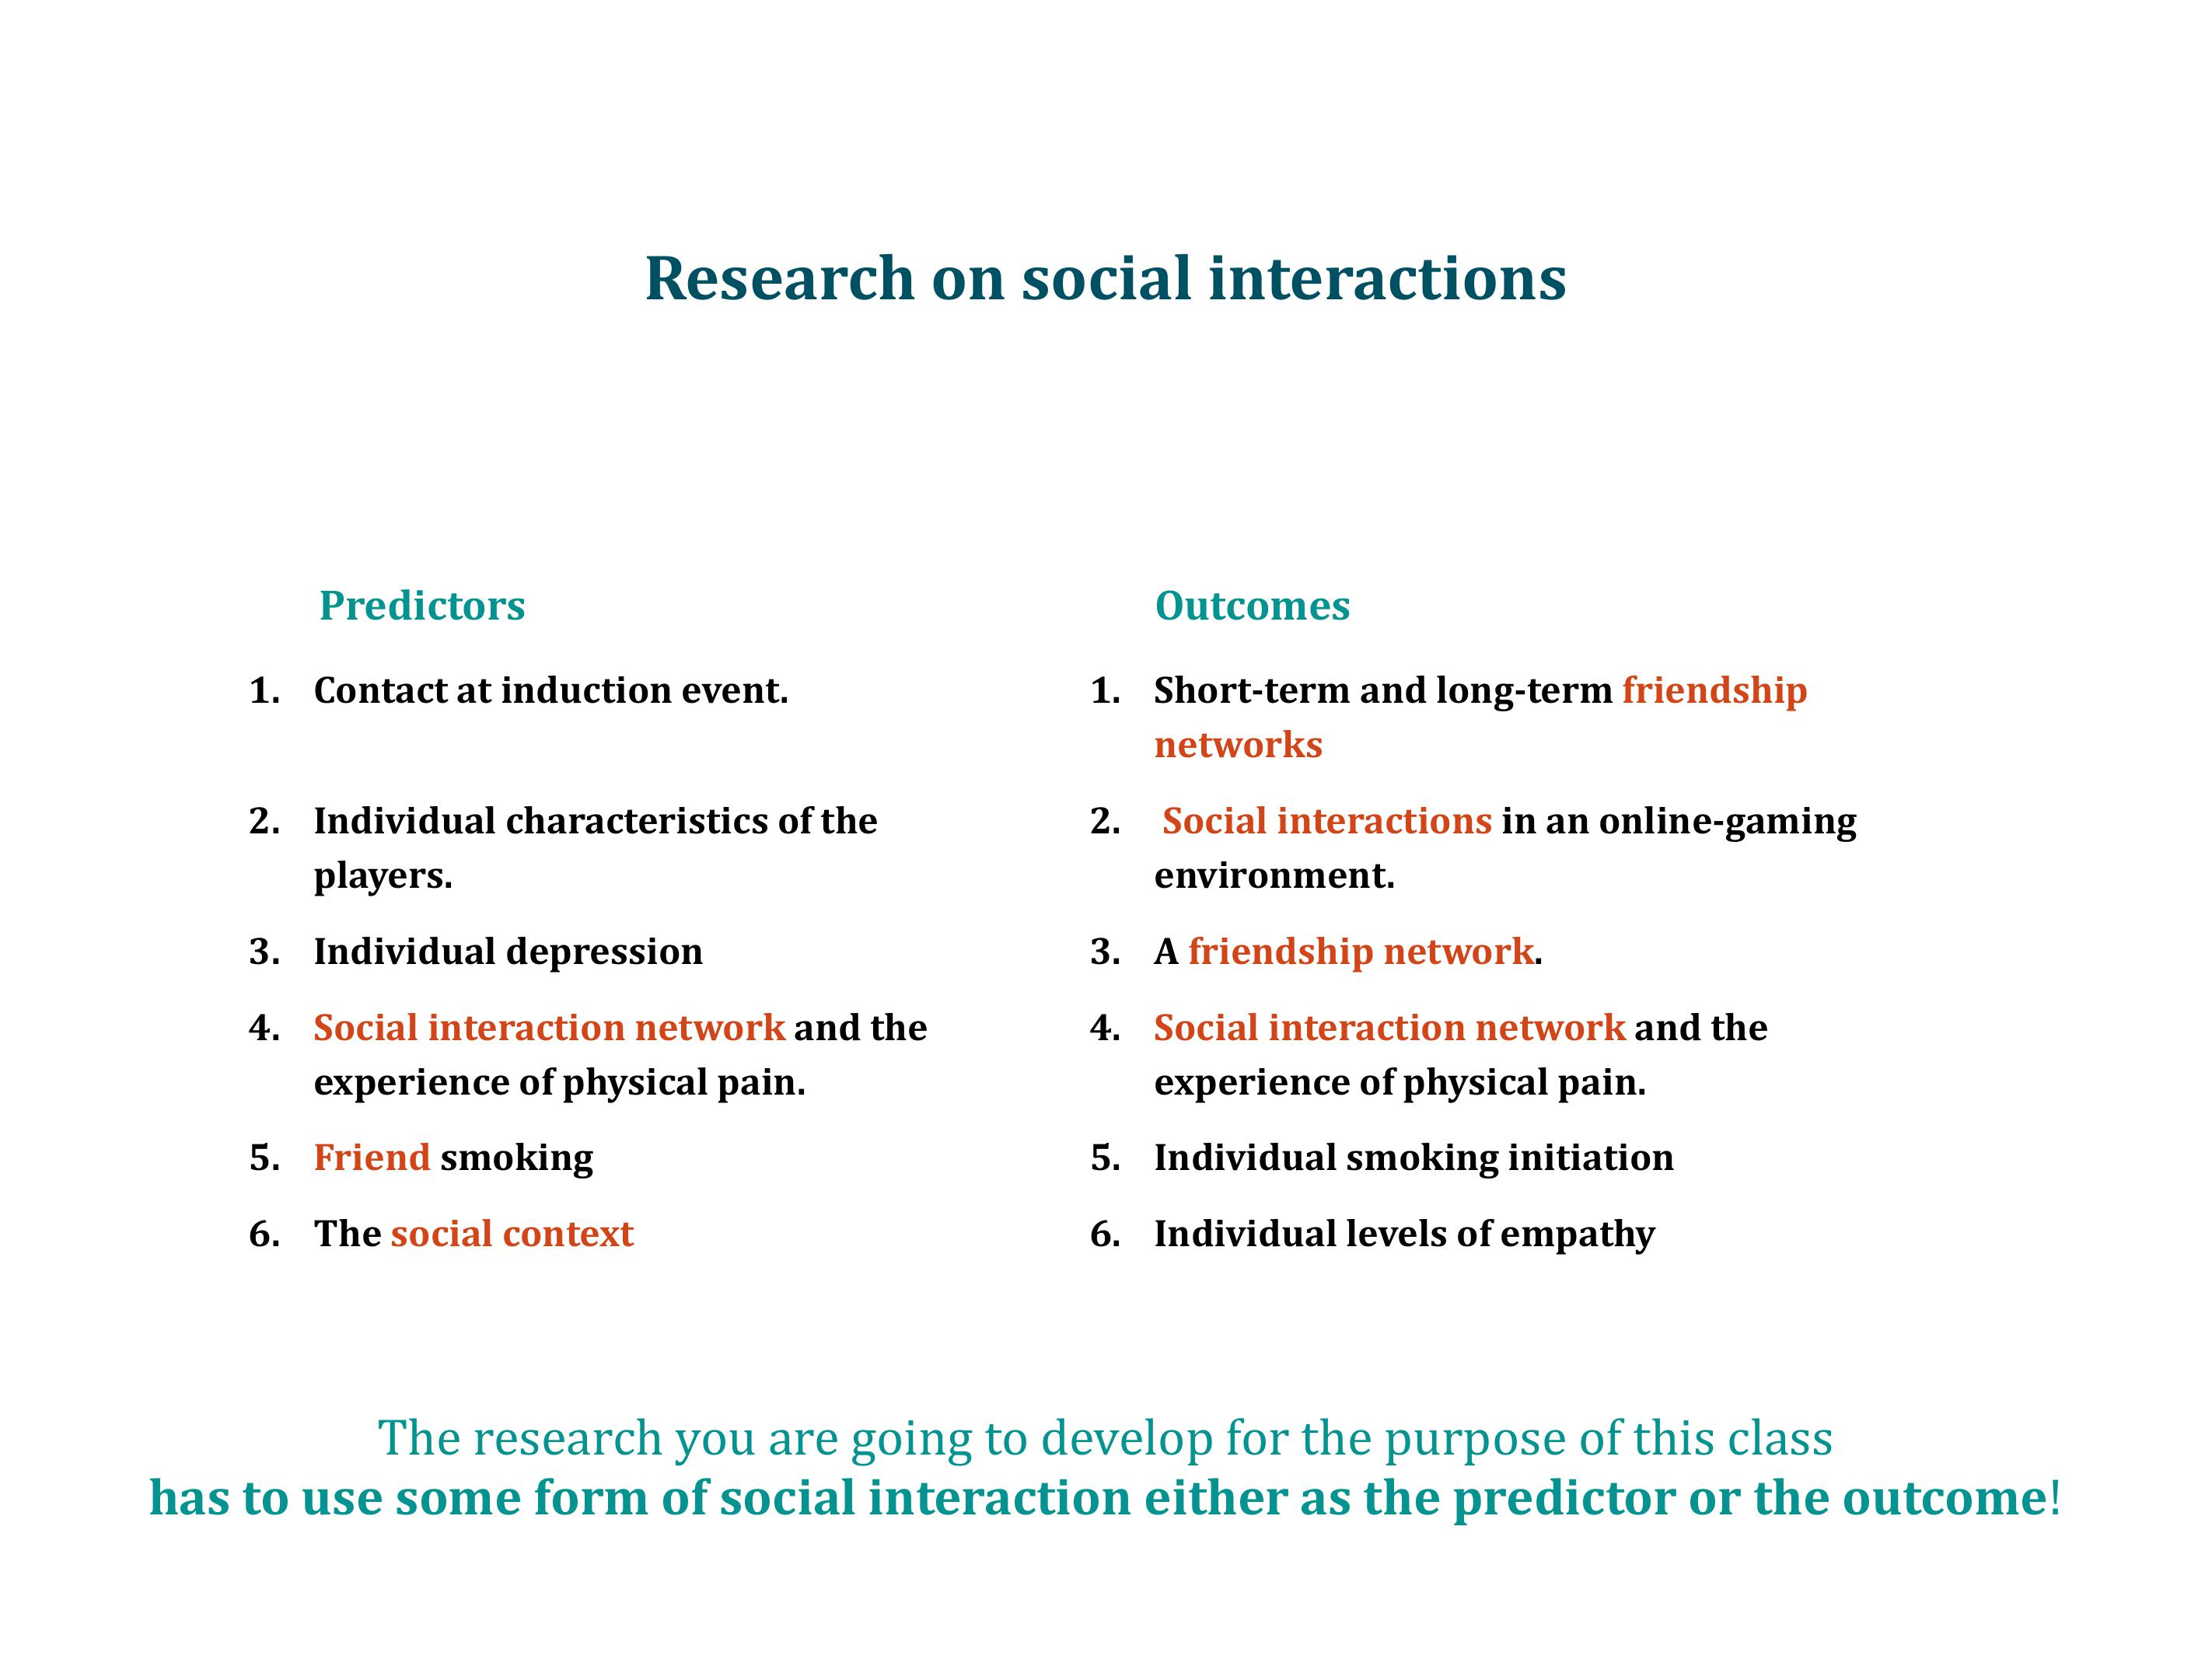Title: (608, 220, 1600, 328)
